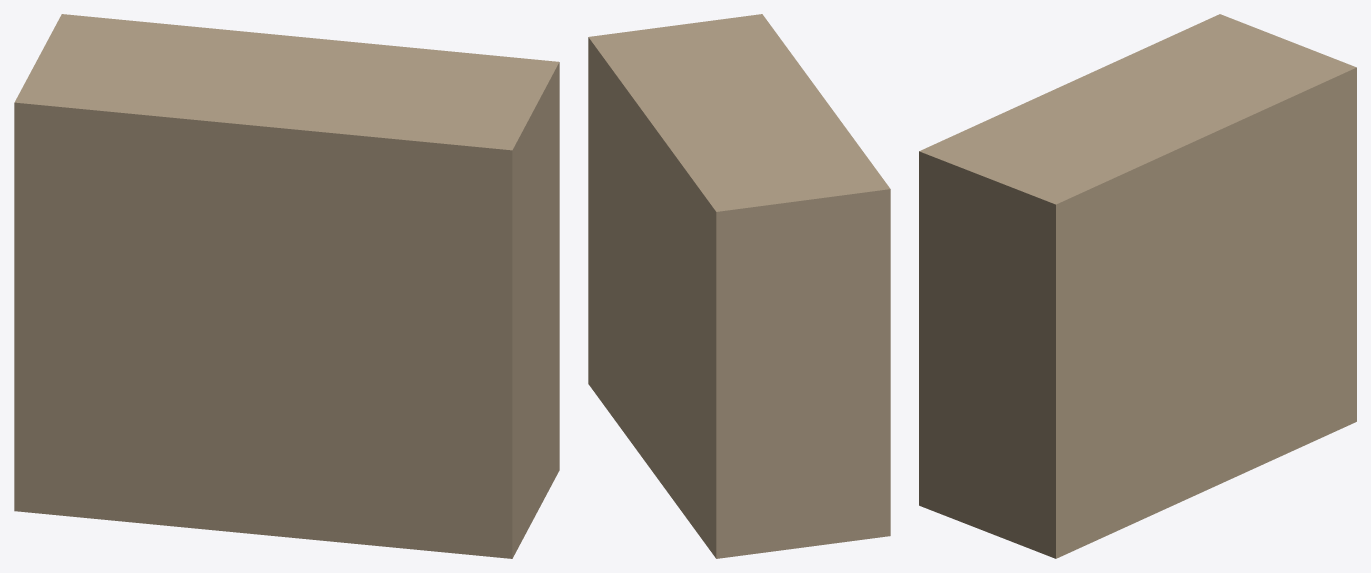
File: bld_106338954.dae
3 renders of one model, left to right at view 1: azimuth 30°, elevation 25°; view 2: azimuth 150°, elevation 25°; view 3: azimuth 270°, elevation 25°, orthographic. The views are drawn at different scales.
Visible parts, largest first — view 1: bld_106338954; view 2: bld_106338954; view 3: bld_106338954.
Boxes of the visible parts, x1,y1,x2,y2 form: bld_106338954: [14, 14, 559, 558]; bld_106338954: [588, 14, 890, 558]; bld_106338954: [919, 14, 1356, 558].
Bounding box in the file's own units: 9.23 × 8.96 × 8.
